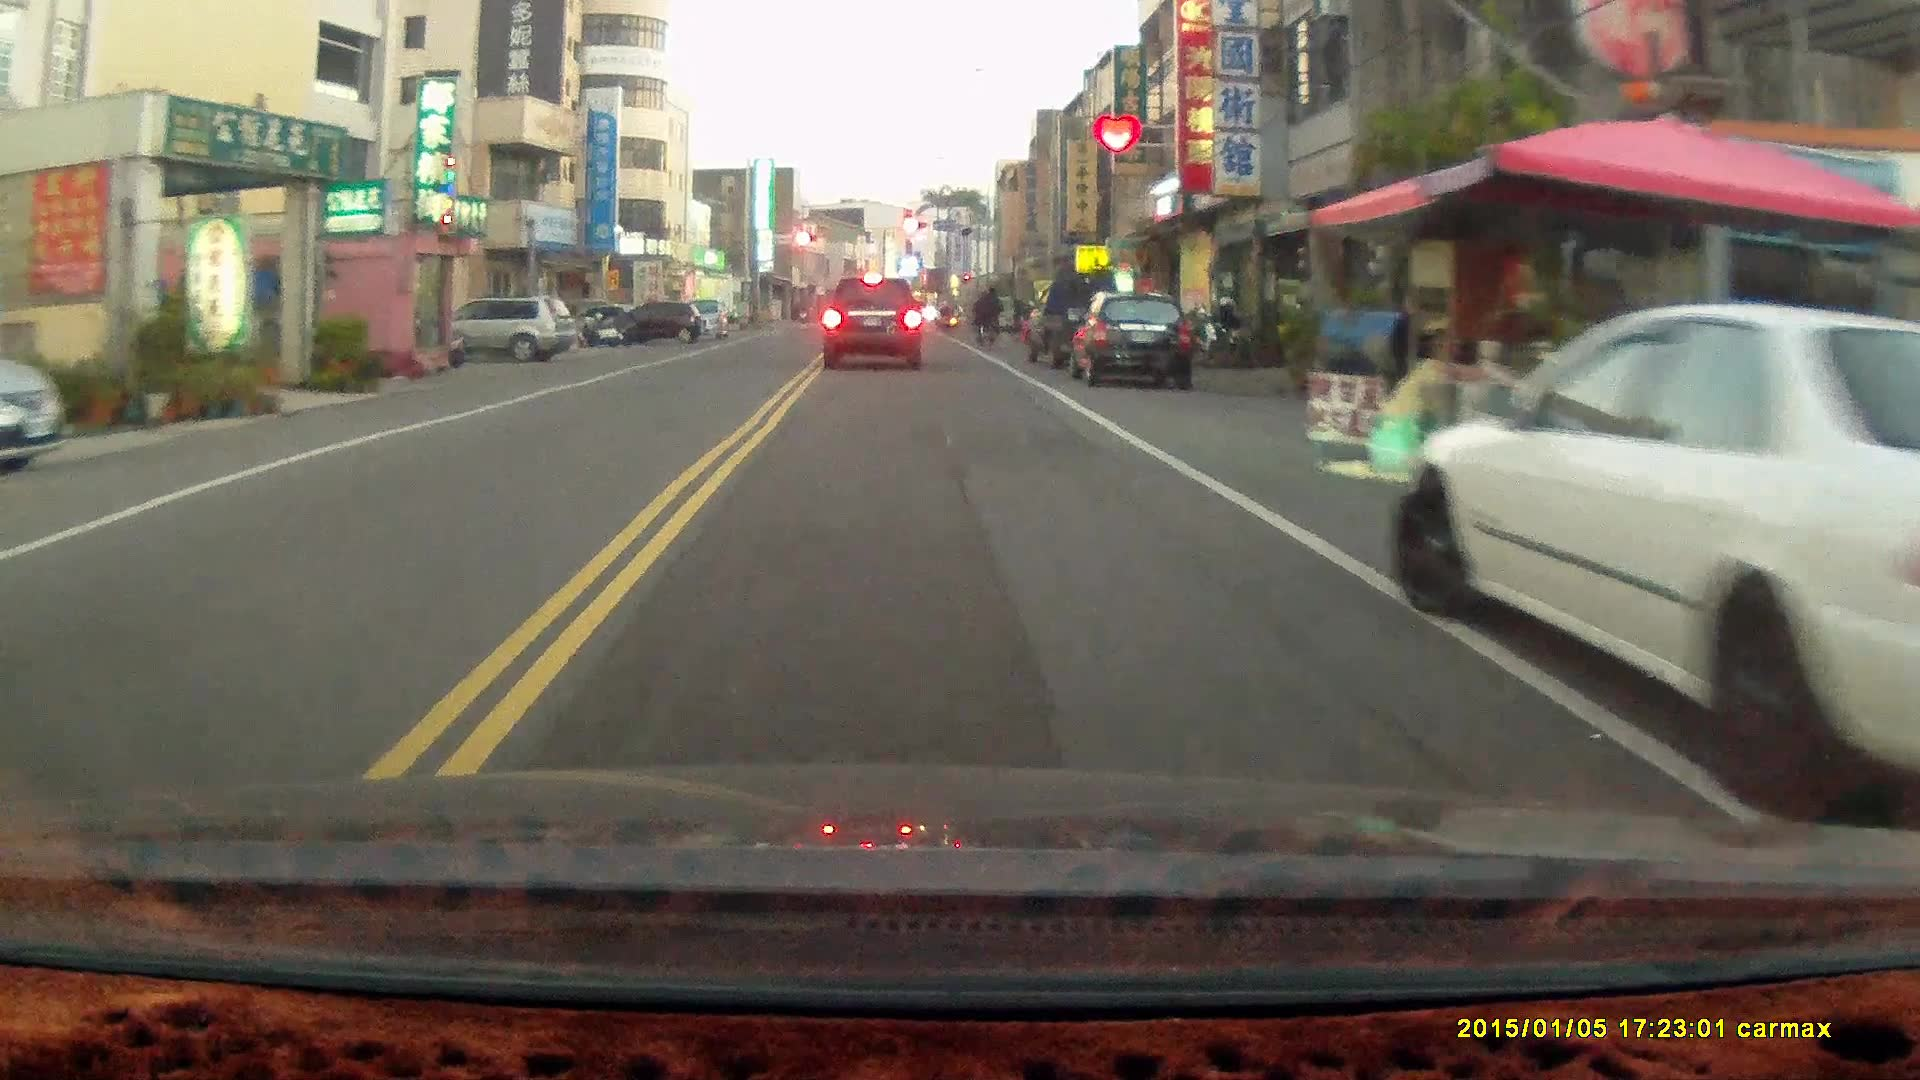rider: (974, 283, 1004, 348)
vehicle: (1391, 297, 1920, 788), (1071, 289, 1201, 391), (415, 299, 577, 366), (820, 273, 927, 371), (596, 297, 703, 346)
